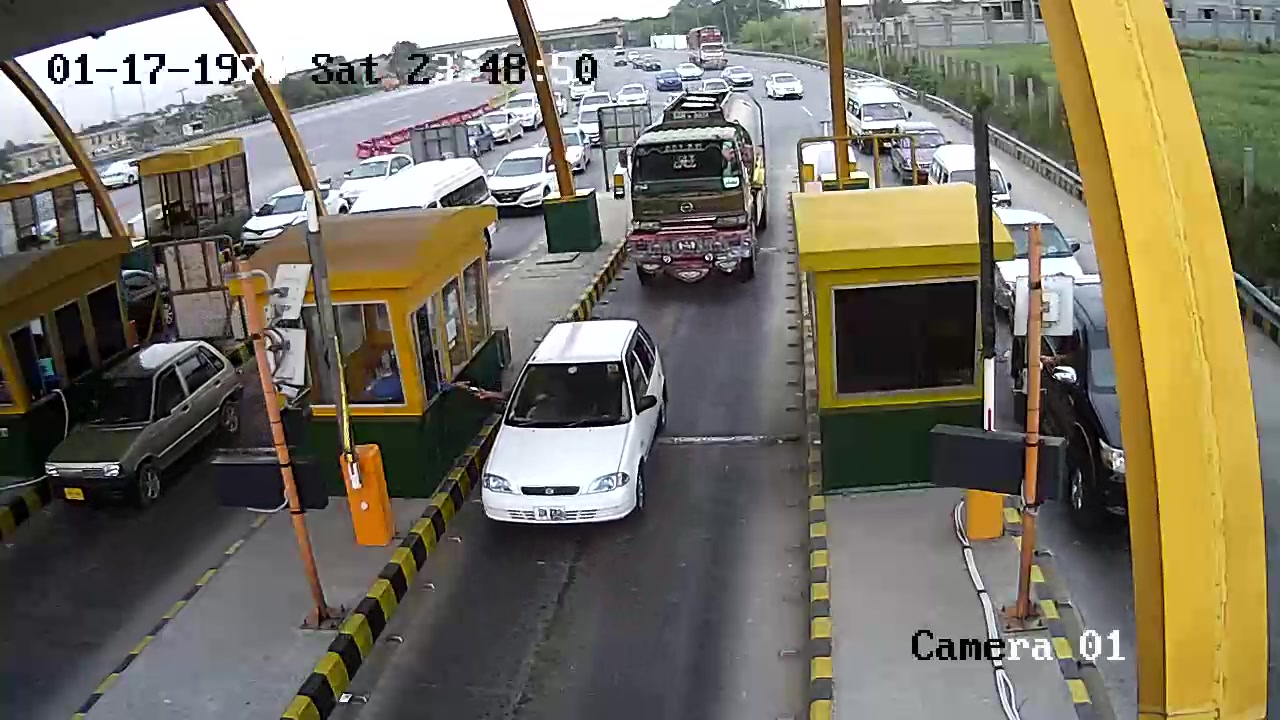F1: (478, 311, 694, 535)
F5: (633, 85, 770, 286)
